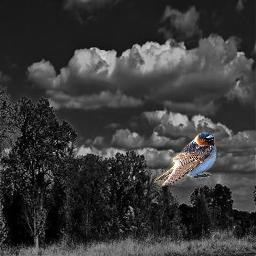Swallow: (154, 132, 217, 187)
